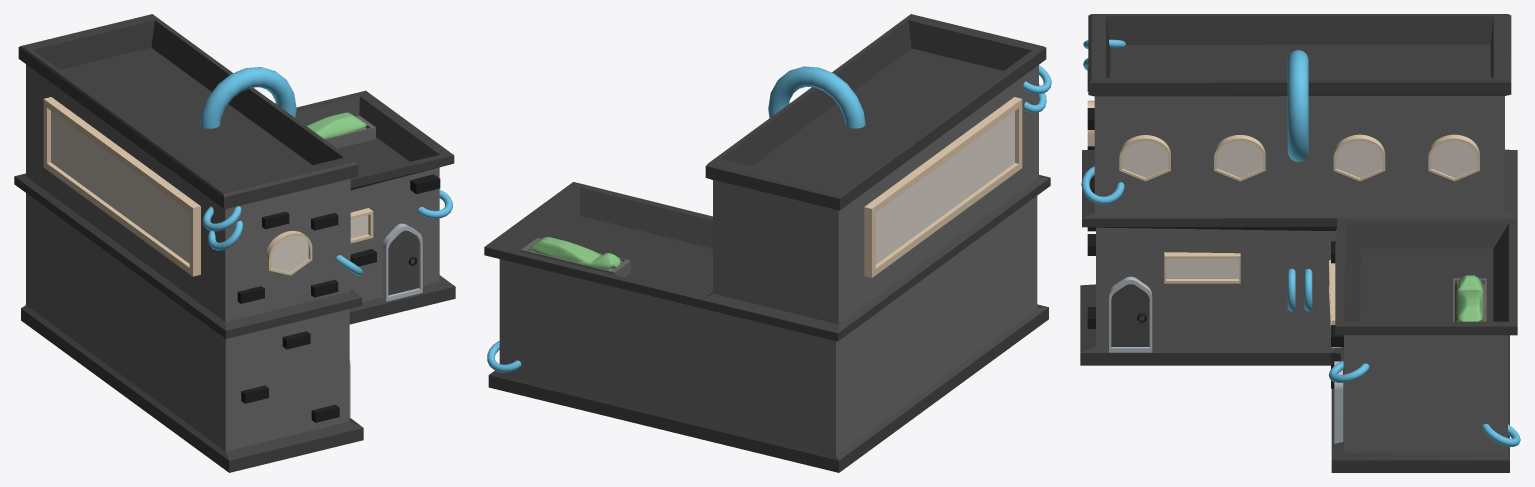
The model's file is GothBuilding.fbx.
3 views of the same model, side by side, from view 1: azimuth 30°, elevation 25°; view 2: azimuth 150°, elevation 25°; view 3: azimuth 270°, elevation 25° (orthographic). The views are drawn at different scales.
Visible parts, largest first — view 1: pCube161; view 2: pCube161; view 3: pCube161.
Part boxes in pixels (x1,y1,x2,y2): pCube161: (14, 14, 455, 472); pCube161: (484, 14, 1051, 472); pCube161: (1080, 14, 1520, 472).
Bounding box in the file's own units: 19.15 × 14.93 × 19.49.
